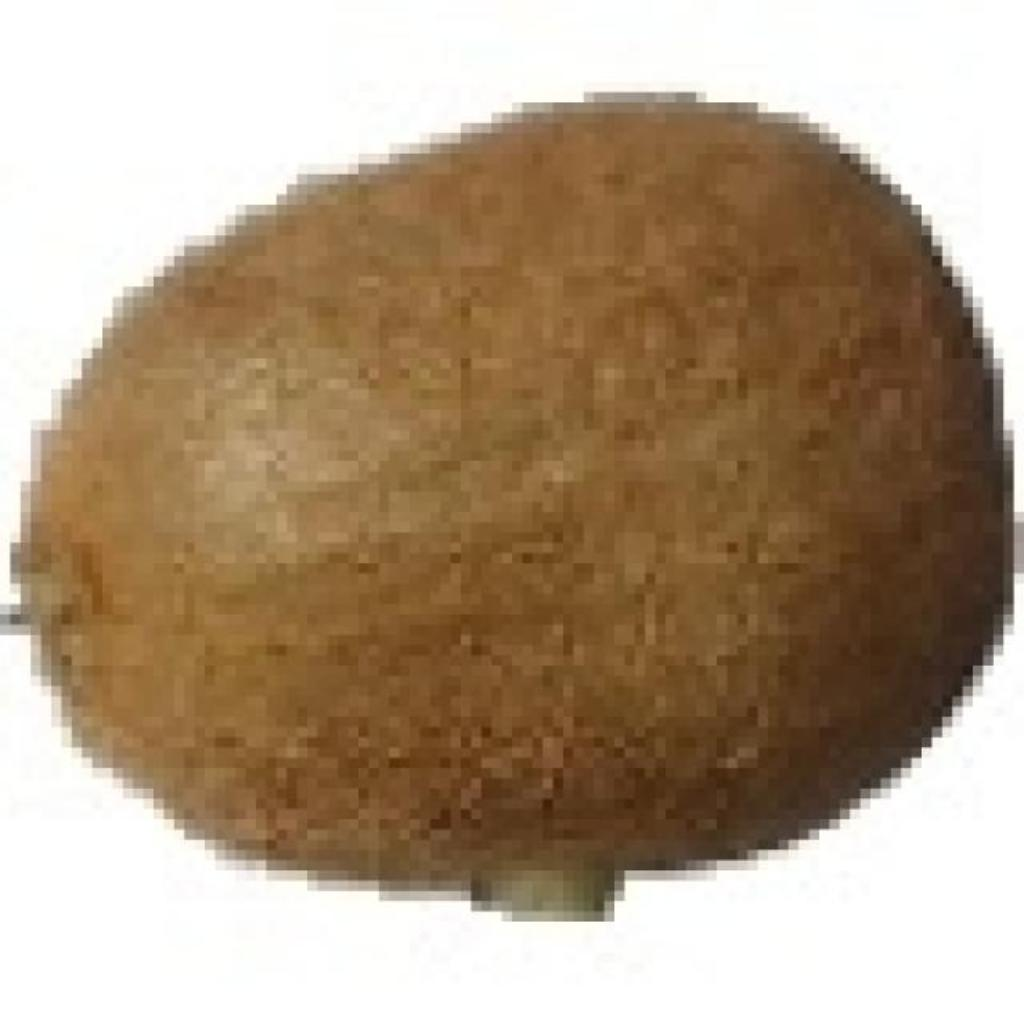kiwi: (10, 82, 993, 891)
